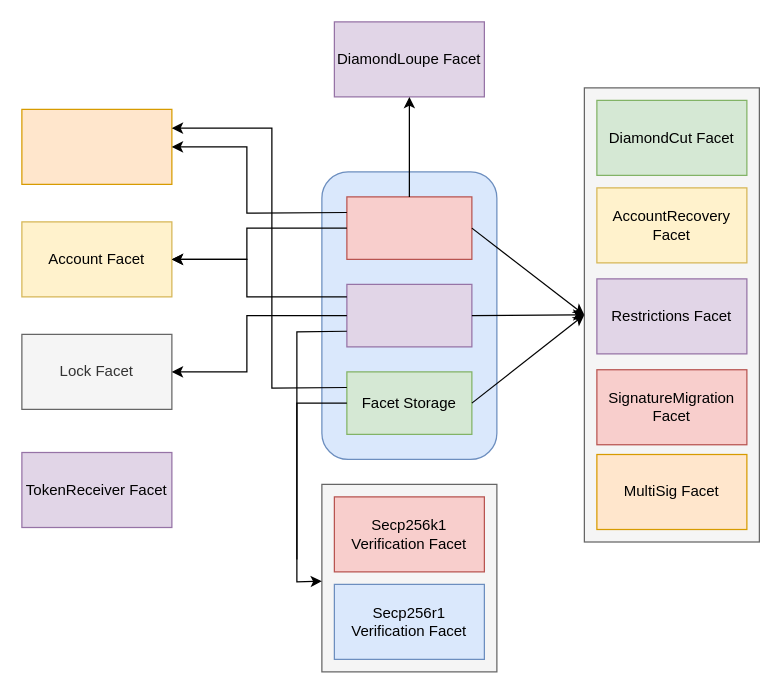
This 781x694 diagram has some shape labels left out. The shapes that lost their labels are listed below. From the top down, each one's centre as x and y in pixels, then its label:
point 96,146: Guardian Facet
point 409,227: Diamond Storage
point 409,315: App Storage
